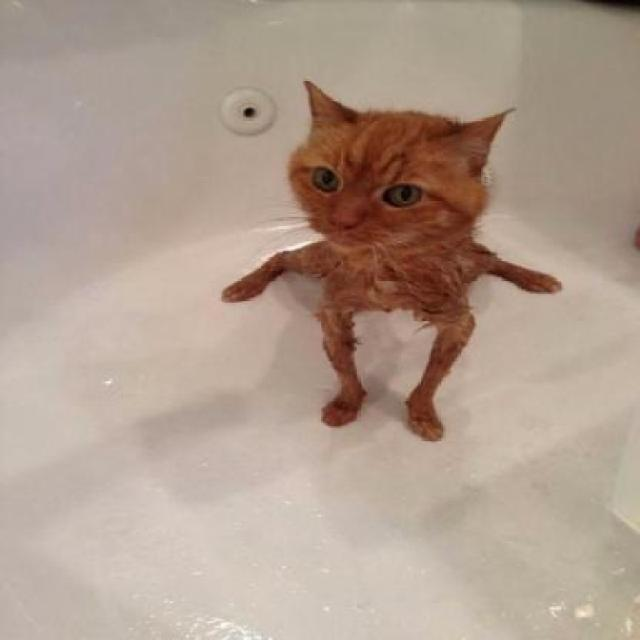cat: (236, 59, 552, 436)
